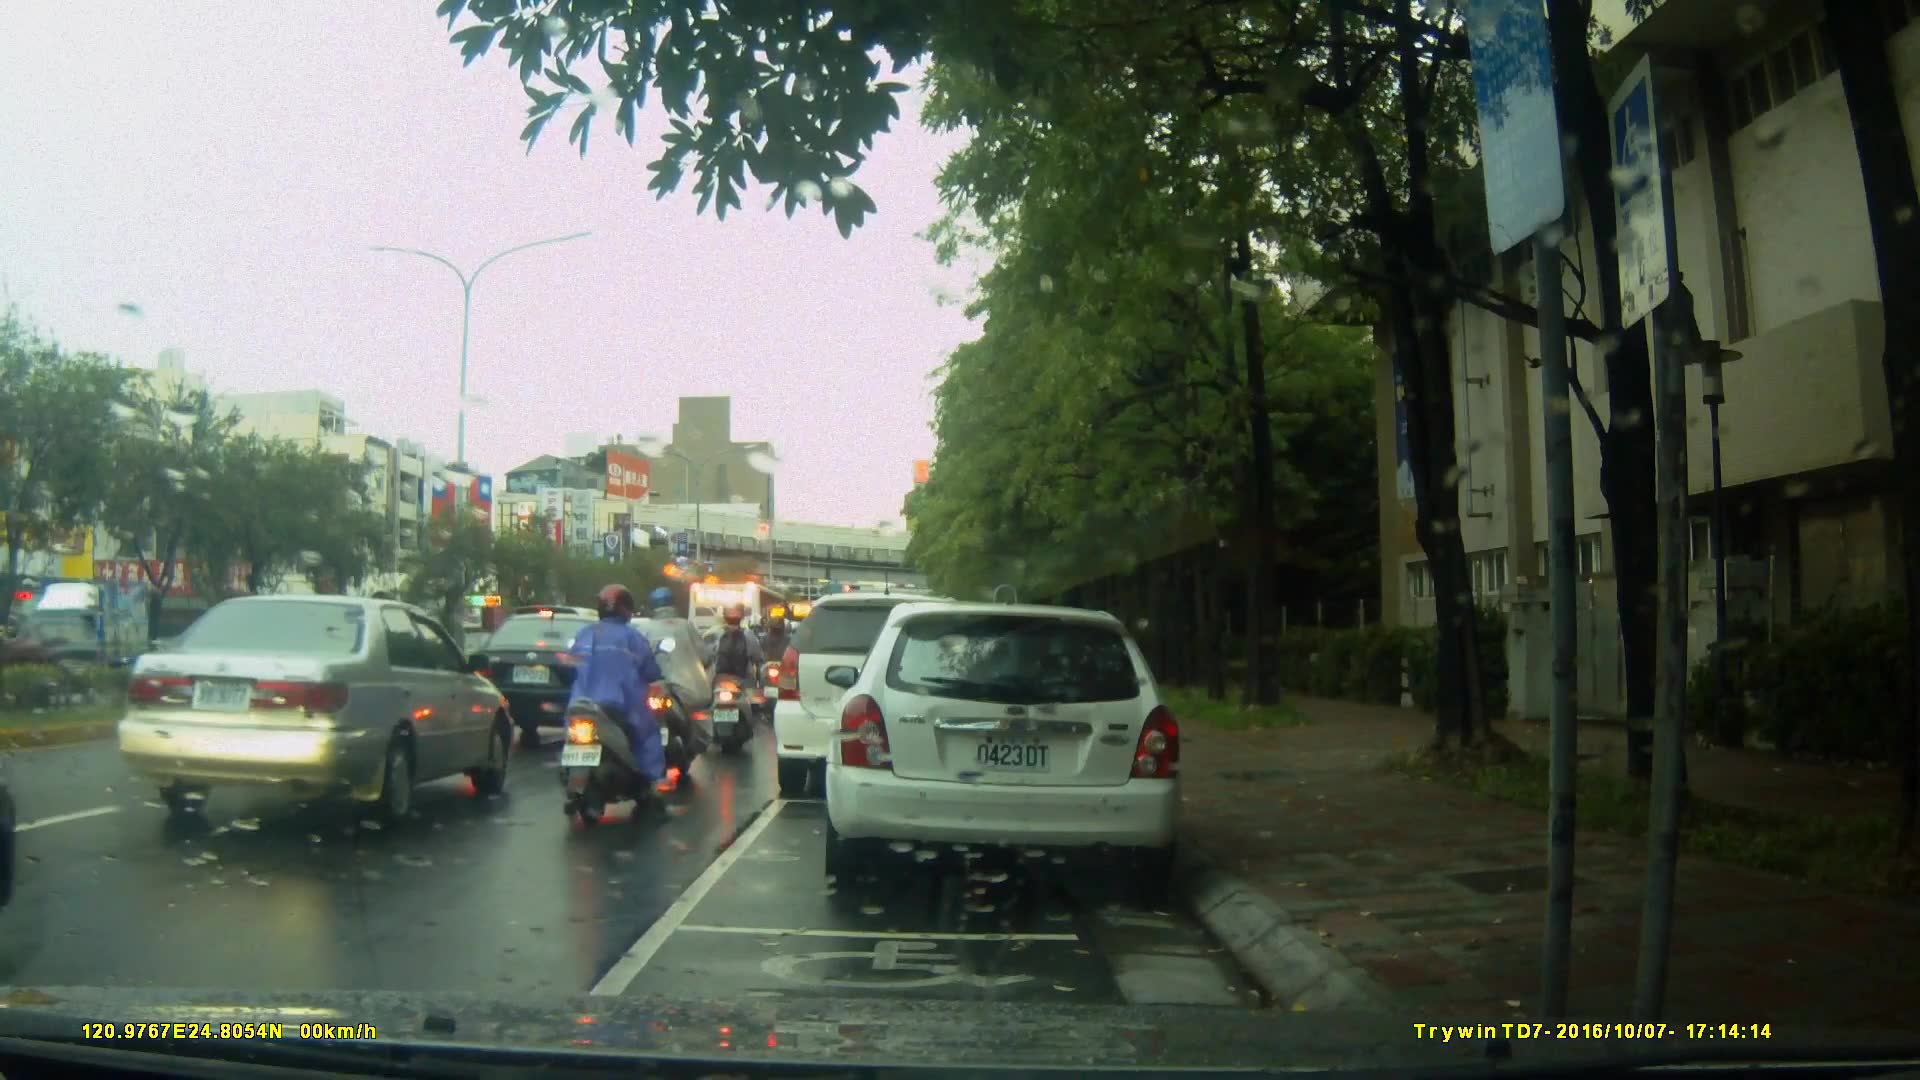rider: (556, 581, 665, 825), (651, 586, 730, 775), (698, 601, 759, 740), (757, 612, 795, 715)
vehicle: (831, 592, 1196, 897), (114, 592, 521, 829), (769, 592, 999, 800), (464, 609, 641, 749), (684, 581, 803, 706)
